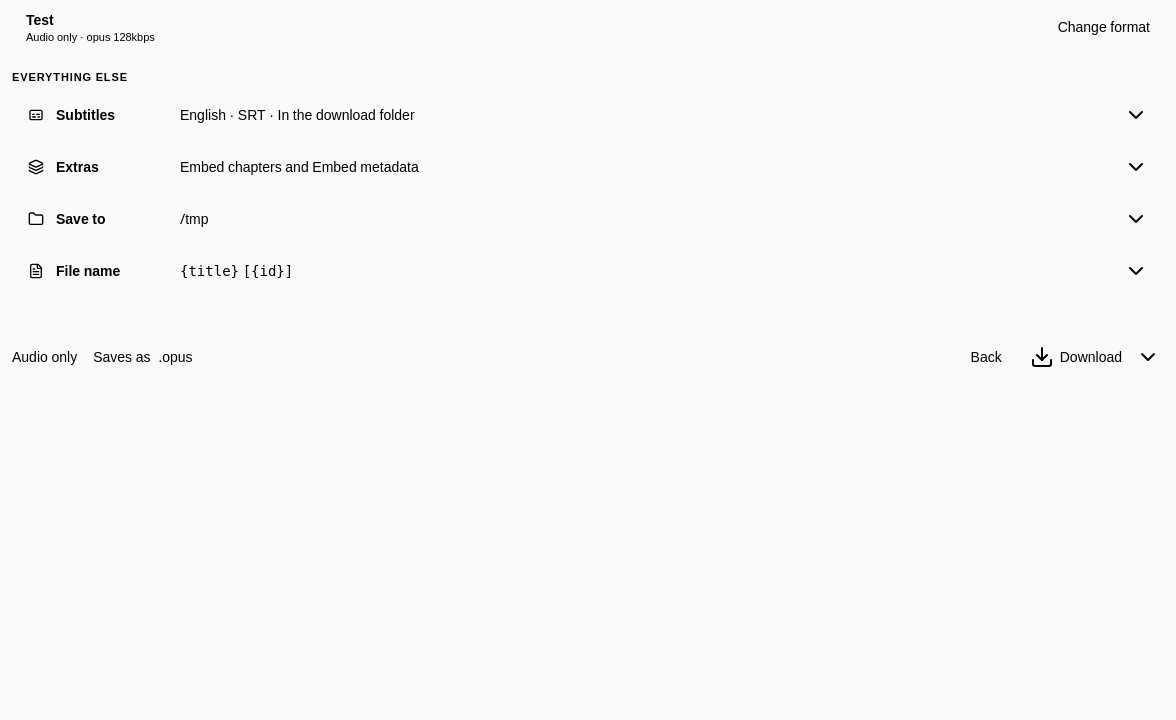
Test: Review — subtitle row › offers no Embed for an audio run (#646)
The width and height of the screenshot is (1176, 720).
Click the button with test id "review-row-subtitles-toggle": (86, 115) [12,90,1164,142]
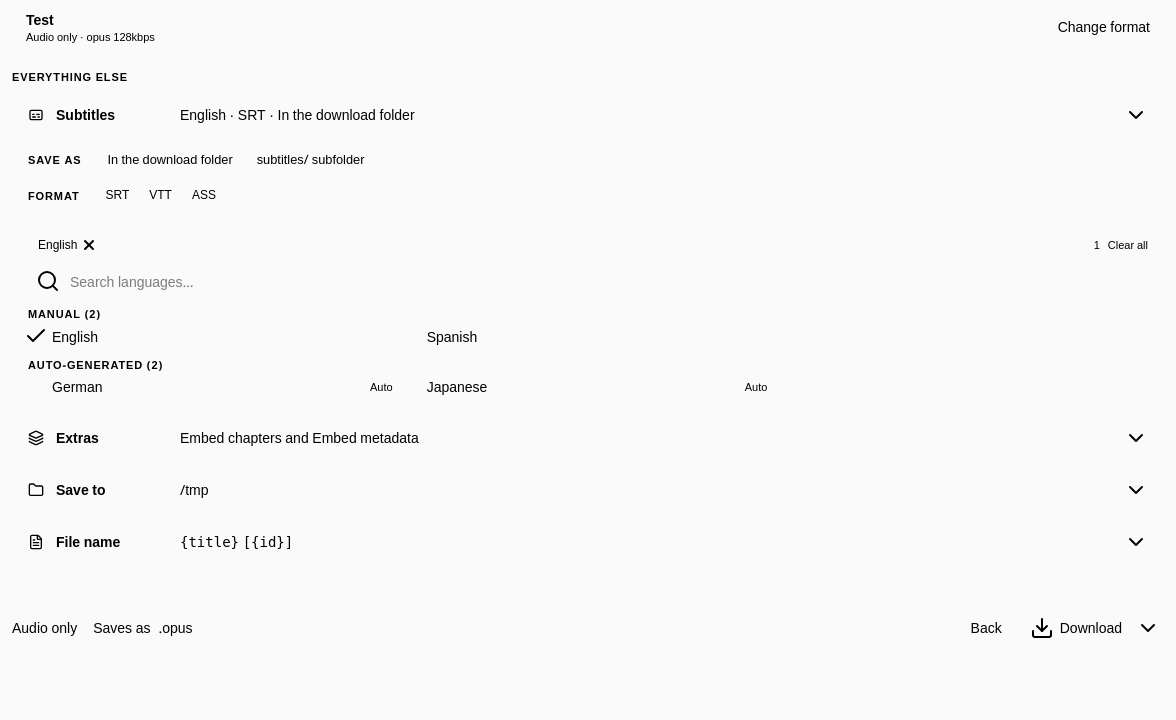
expect the button "In the download folder" is shown: met, box [98,146,243,174]
